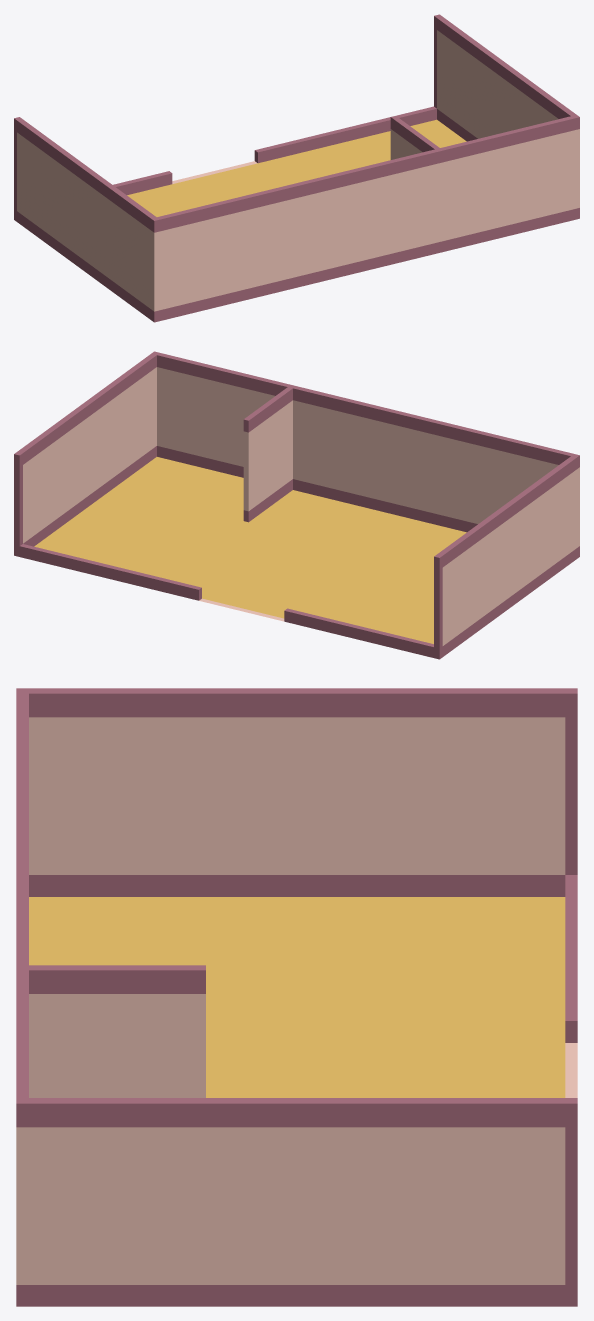
The model's file is WC_Layout.fbx.
The picture shows the model from 3 angles, top to bottom: view 1: azimuth 30°, elevation 25°; view 2: azimuth 150°, elevation 25°; view 3: azimuth 270°, elevation 25°; orthographic projection. The views are drawn at different scales.
Parts seen in each view (by area): view 1: WC_lv1; view 2: WC_lv1; view 3: WC_lv1.
Boxes of the visible parts, x1,y1,x2,y2 form: WC_lv1: (14,14,579,322); WC_lv1: (14,351,579,659); WC_lv1: (16,688,577,1306).
Size of the model in its own units: 3221 by 734 by 1839.
